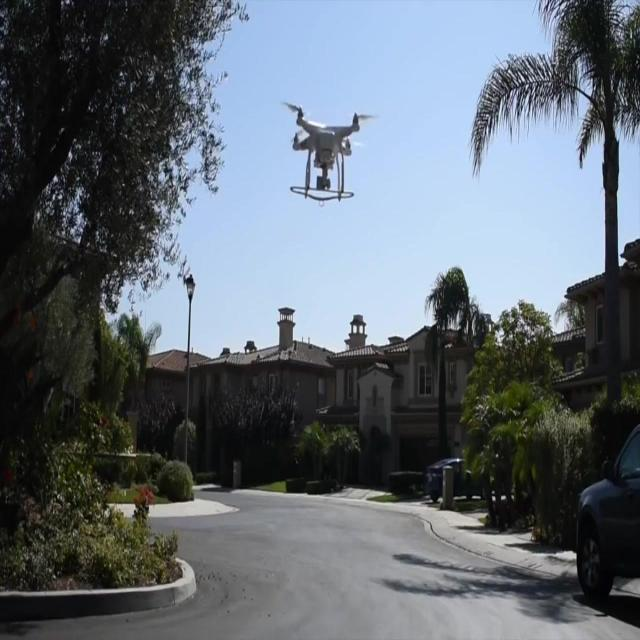drone: (284, 98, 369, 209)
